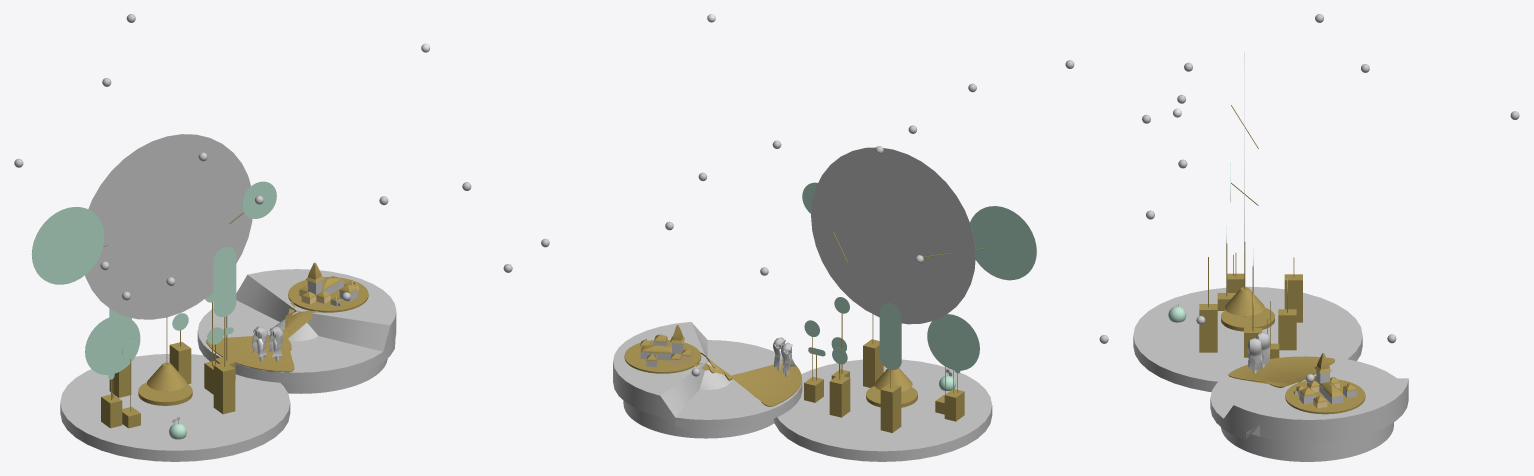
The model's file is paisible1-new.fbx.
The picture shows the model from 3 angles, left to right: view 1: azimuth 30°, elevation 25°; view 2: azimuth 150°, elevation 25°; view 3: azimuth 270°, elevation 25°; orthographic projection. The views are drawn at different scales.
Visible parts, largest first — view 1: feuillage, Cylindre_10, Disque_1, feuillage_2, feuillage_2_5, Couvercle_2, feuillage_5, Cylindre_2, socle_7, Cylinder_6, feuillage_2_2, Cylindre_3 (+4 smaller); view 2: feuillage, Cylindre_10, Disque_1, feuillage_2, feuillage_2_5, Couvercle_2, Cylinder_6, feuillage_2_3, Cylindre_2, socle_2, socle_3, socle_7 (+3 smaller); view 3: Cylindre_10, Disque_1, Cylinder_6, Couvercle_2, Cylindre_2, socle_7, Cylindre_3, socle_3, socle, socle_2.
Part boxes in pixels (<box>): feuillage: <box>85,134,252,319</box>; Cylindre_10: <box>60,354,290,461</box>; Disque_1: <box>197,269,396,383</box>; feuillage_2: <box>31,207,104,284</box>; feuillage_2_5: <box>85,315,140,374</box>; Couvercle_2: <box>206,301,317,371</box>; feuillage_5: <box>213,247,236,316</box>; Cylindre_2: <box>288,277,368,312</box>; socle_7: <box>213,362,235,414</box>; Cylinder_6: <box>281,358,387,393</box>; feuillage_2_2: <box>242,181,276,218</box>; Cylindre_3: <box>138,382,192,405</box>; feuillage: <box>811,147,975,324</box>; Cylindre_10: <box>774,359,992,461</box>; Disque_1: <box>613,322,802,430</box>; feuillage_2: <box>970,206,1036,280</box>; feuillage_2_5: <box>927,314,979,370</box>; Couvercle_2: <box>694,357,801,405</box>; Cylinder_6: <box>623,400,774,438</box>; feuillage_2_3: <box>879,303,901,369</box>; Cylindre_2: <box>624,340,701,373</box>; socle_2: <box>880,383,901,432</box>; socle_3: <box>829,375,850,417</box>; socle_7: <box>863,339,883,387</box>; Cylindre_10: <box>1133,286,1362,392</box>; Disque_1: <box>1210,356,1408,442</box>; Cylinder_6: <box>1221,422,1393,461</box>; Couvercle_2: <box>1228,356,1334,386</box>; Cylindre_2: <box>1285,379,1365,414</box>; socle_7: <box>1199,304,1217,352</box>; Cylindre_3: <box>1221,307,1274,331</box>; socle_3: <box>1278,309,1296,350</box>; socle: <box>1225,287,1264,315</box>; socle_2: <box>1284,274,1302,322</box>.
Bounding box in the file's own units: 159 × 110 × 131.
